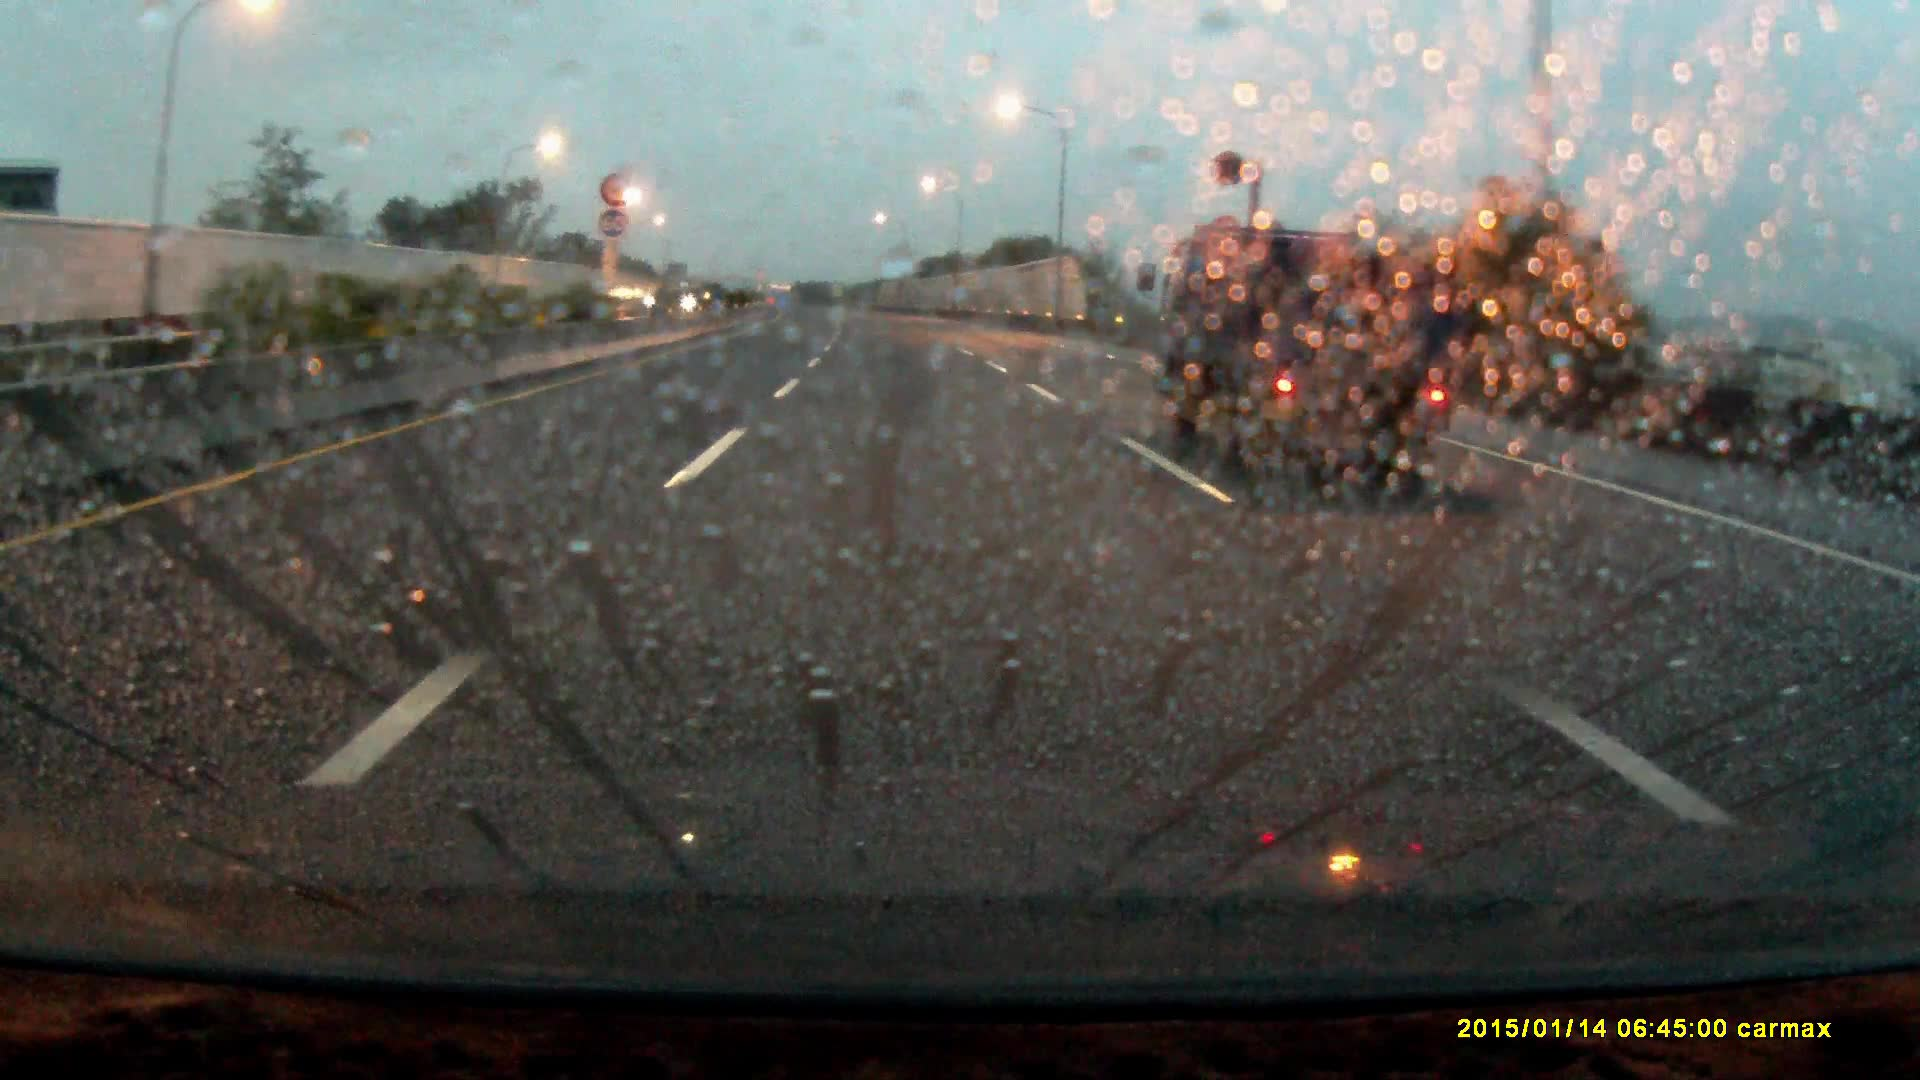vehicle: (1187, 208, 1484, 508)
